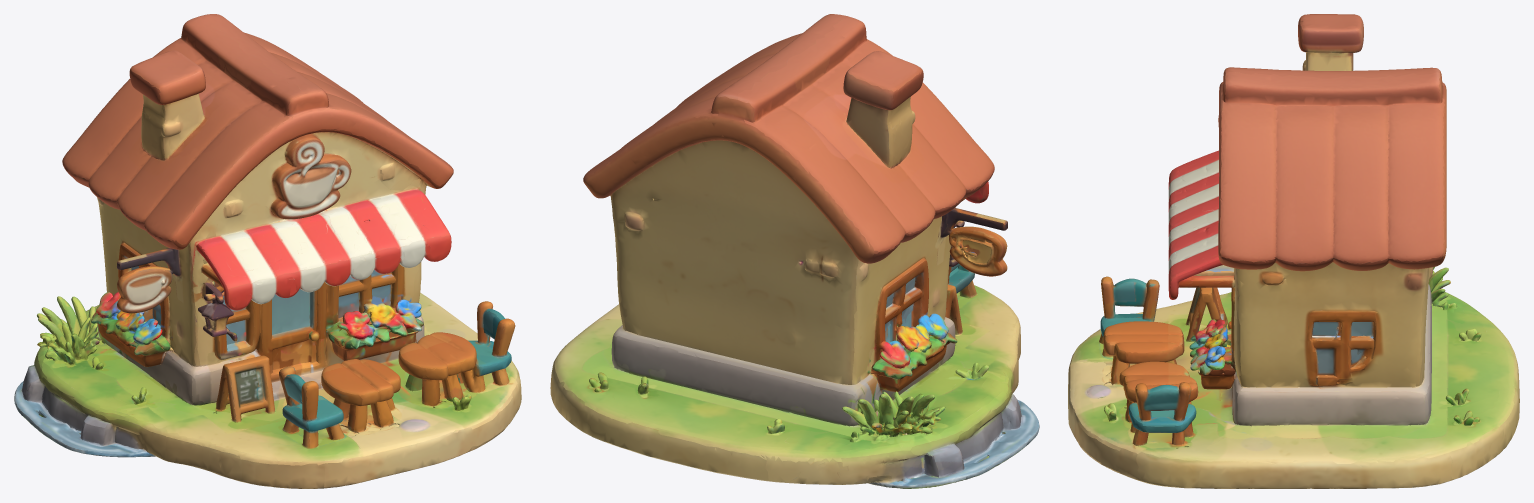
The model's file is bld_cafe.glb.
3 renders of one model, left to right at view 1: azimuth 30°, elevation 25°; view 2: azimuth 150°, elevation 25°; view 3: azimuth 270°, elevation 25°, orthographic. The views are drawn at different scales.
Parts seen in each view (by area): view 1: geometry_0; view 2: geometry_0; view 3: geometry_0.
Part boxes in pixels (x1,y1,x2,y2): geometry_0: (14,14,521,488); geometry_0: (550,14,1039,488); geometry_0: (1068,14,1519,488).
Size of the model in its own units: 0.18 by 0.1461 by 0.1744.
1 material, 1 textured.
